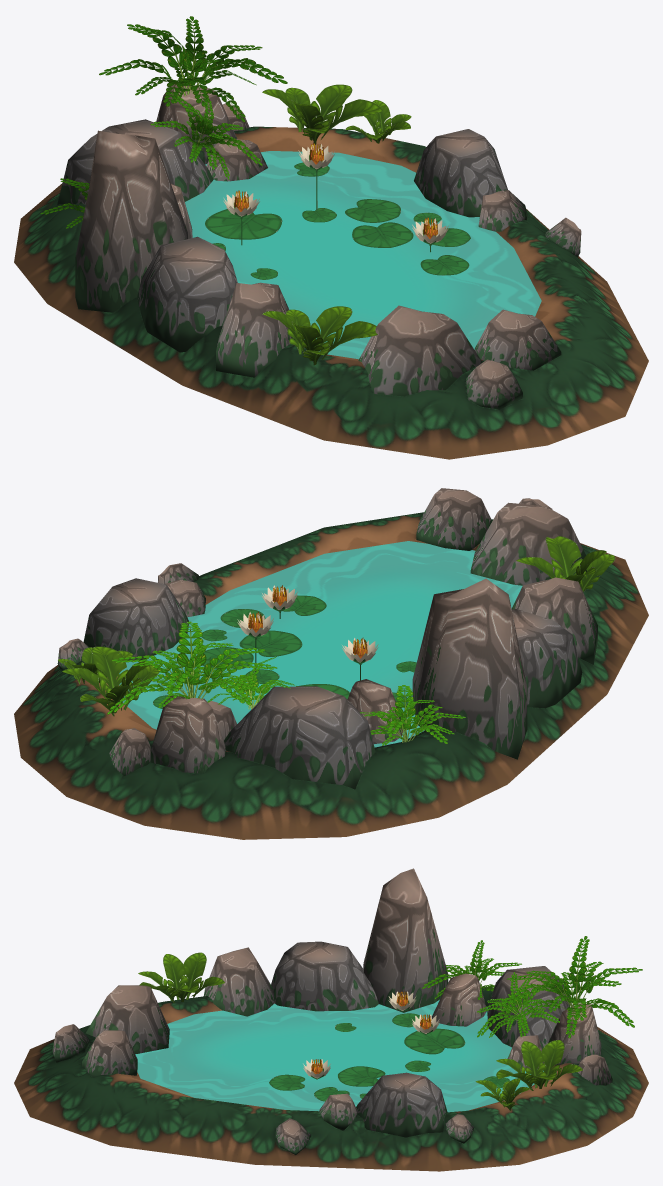
The model's file is Pond_Spring.FBX.
3 renders of one model, top to bottom at view 1: azimuth 30°, elevation 25°; view 2: azimuth 150°, elevation 25°; view 3: azimuth 270°, elevation 25°, orthographic. The views are drawn at different scales.
Parts seen in each view (by area): view 1: Object318, Object317, Line1425, Line1429, Line1427, Line1426, Line1430, Line1428; view 2: Object318, Object317, Line1425, Line1429, Line1427, Line1426, Line1424, Line1430, Line1428; view 3: Object318, Object317, Line1425, Line1429, Line1427, Line1426, Line1430, Line1424, Line1428.
Boxes of the visible parts, box(x1,y1,x2,y2) form: Object318: box(14, 126, 648, 459); Object317: box(57, 84, 581, 409); Line1425: box(205, 143, 470, 279); Line1429: box(99, 16, 287, 122); Line1427: box(262, 84, 382, 144); Line1426: box(262, 306, 377, 365); Line1430: box(150, 93, 262, 179); Line1428: box(345, 100, 411, 143); Object318: box(14, 512, 648, 839); Object317: box(57, 488, 597, 789); Line1425: box(153, 585, 416, 708); Line1429: box(107, 621, 277, 714); Line1427: box(62, 646, 160, 716); Line1426: box(516, 536, 615, 591); Line1424: box(360, 685, 465, 745); Line1430: box(201, 656, 297, 709); Line1428: box(58, 647, 132, 684); Object318: box(14, 986, 648, 1171); Object317: box(52, 868, 612, 1154); Line1425: box(269, 991, 510, 1101); Line1429: box(501, 936, 642, 1038); Line1427: box(496, 1040, 582, 1090); Line1426: box(138, 952, 224, 1002); Line1430: box(476, 972, 559, 1037); Line1424: box(422, 940, 521, 999); Line1428: box(475, 1078, 529, 1110).
Bounding box in the file's own units: 255 × 93.76 × 387.
